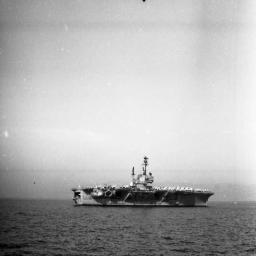Portanaves: (72, 155, 216, 209)
